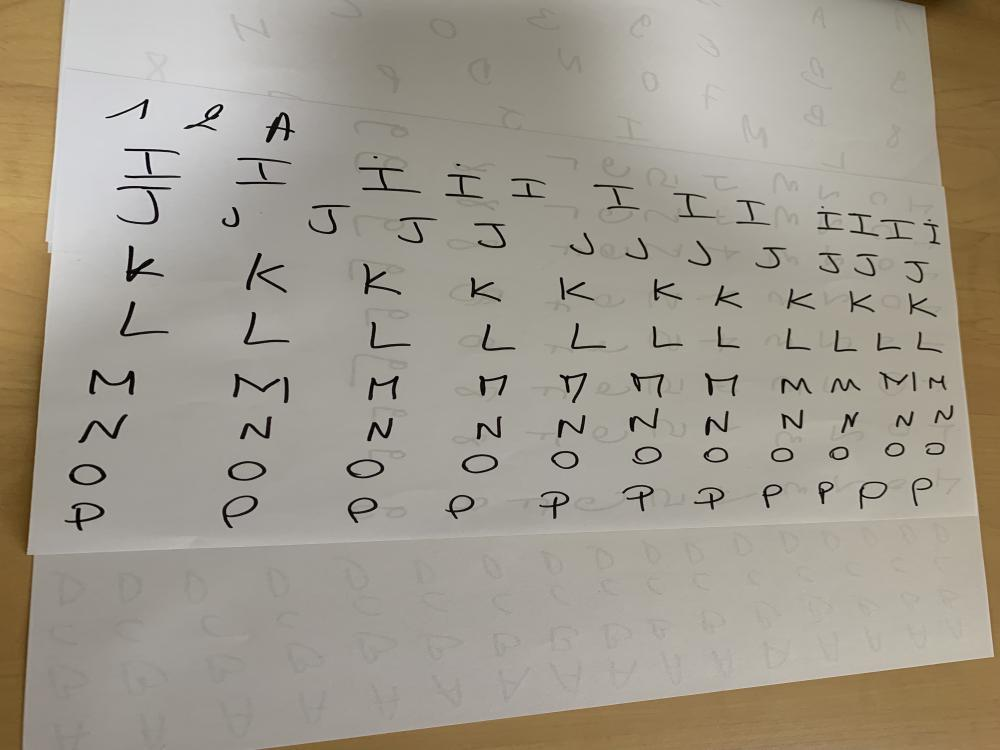0: (68, 462, 109, 488), (346, 458, 387, 481), (462, 453, 500, 476), (228, 459, 264, 482), (631, 444, 662, 466), (550, 449, 580, 470), (702, 445, 732, 465), (769, 447, 794, 464), (885, 442, 907, 460), (923, 441, 948, 456), (829, 446, 852, 462)
1: (105, 98, 152, 122)
2: (182, 103, 231, 132)
A: (263, 111, 295, 144)
I: (115, 146, 188, 182), (355, 165, 424, 195), (230, 155, 290, 188), (592, 181, 640, 213), (441, 172, 487, 201), (670, 191, 716, 220), (733, 198, 774, 229), (508, 174, 547, 202), (879, 218, 917, 242), (844, 211, 876, 238), (812, 210, 846, 234), (922, 222, 942, 246)
J: (114, 185, 174, 226), (306, 204, 351, 235), (396, 216, 438, 244), (472, 222, 507, 249), (753, 246, 788, 270), (686, 240, 712, 267), (903, 259, 931, 284), (570, 232, 596, 258), (622, 236, 649, 261), (854, 253, 880, 277), (816, 252, 843, 275), (218, 206, 241, 228)
K: (245, 251, 290, 295), (360, 261, 406, 300), (126, 244, 167, 285), (558, 276, 596, 303), (468, 276, 504, 304), (905, 292, 939, 320), (782, 286, 818, 312), (650, 278, 684, 304), (846, 290, 878, 314), (711, 284, 742, 308)
L: (116, 300, 172, 338), (240, 312, 291, 346), (366, 320, 414, 350), (480, 322, 520, 352), (570, 322, 609, 351), (649, 324, 684, 349), (782, 326, 814, 352), (913, 330, 946, 354), (830, 329, 859, 354), (714, 324, 742, 349), (874, 328, 903, 351)
M: (232, 374, 292, 405), (88, 369, 138, 398), (879, 369, 922, 395), (628, 372, 669, 398), (557, 372, 589, 404), (703, 371, 738, 399), (475, 373, 512, 398), (366, 376, 401, 399), (779, 376, 814, 396), (829, 378, 864, 396), (927, 376, 948, 392)
N: (75, 413, 131, 444), (237, 414, 278, 442), (626, 406, 665, 434), (472, 414, 508, 442), (556, 412, 589, 441), (701, 410, 734, 438), (364, 416, 396, 442), (778, 408, 807, 430), (840, 410, 864, 436), (935, 404, 959, 426), (894, 410, 916, 431)
P: (222, 492, 260, 532), (65, 500, 107, 532), (620, 484, 658, 514), (344, 496, 382, 523), (540, 489, 571, 521), (858, 480, 890, 510), (910, 476, 936, 508), (693, 486, 727, 510), (448, 494, 477, 522), (760, 483, 784, 509), (816, 480, 836, 506)
